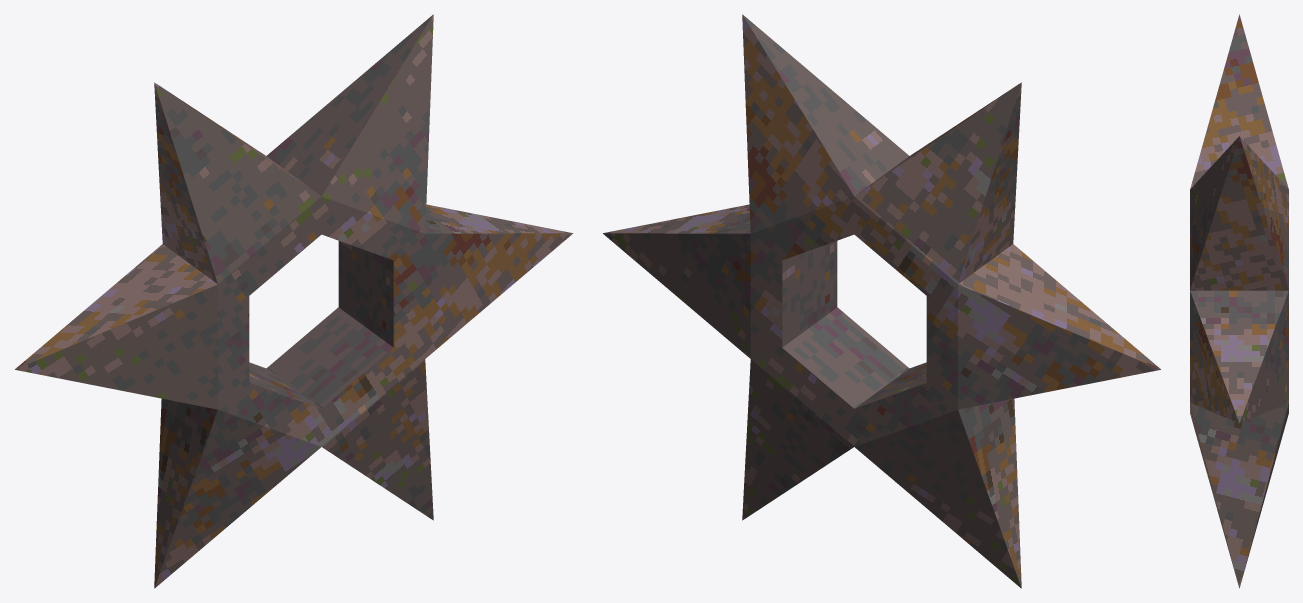
Rendered from spikes.glb.
3 views of the same model, side by side, from view 1: azimuth 30°, elevation 25°; view 2: azimuth 150°, elevation 25°; view 3: azimuth 270°, elevation 25° (orthographic). The views are drawn at different scales.
Parts seen in each view (by area): view 1: Cube; view 2: Cube; view 3: Cube.
Boxes of the visible parts, bbox=[...] form: Cube: bbox=[15, 14, 572, 588]; Cube: bbox=[603, 14, 1160, 588]; Cube: bbox=[1190, 14, 1288, 588].
Bounding box in the file's own units: 4.67 × 4.05 × 0.8.
Materials: 1 (1 with a texture image).
